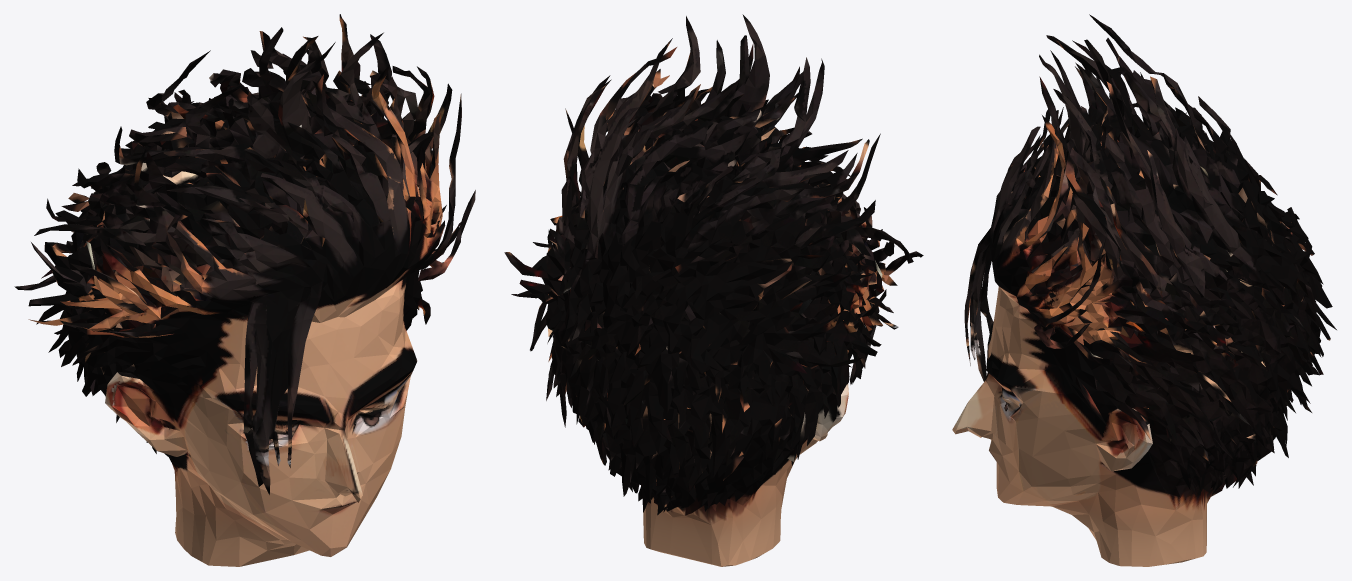
File: side_h_hanabi_repaired_atlas.glb
3 views of the same model, side by side, from view 1: azimuth 30°, elevation 25°; view 2: azimuth 150°, elevation 25°; view 3: azimuth 270°, elevation 25° (orthographic). The views are drawn at different scales.
Parts seen in each view (by area): view 1: temp_mesh.ply; view 2: temp_mesh.ply; view 3: temp_mesh.ply.
Boxes of the visible parts, x1,y1,x2,y2 form: temp_mesh.ply: (14, 14, 475, 566); temp_mesh.ply: (504, 14, 923, 566); temp_mesh.ply: (952, 14, 1336, 566).
Bounding box in the file's own units: 1.61 × 1.96 × 1.38.
Materials: 1 (1 with a texture image).
